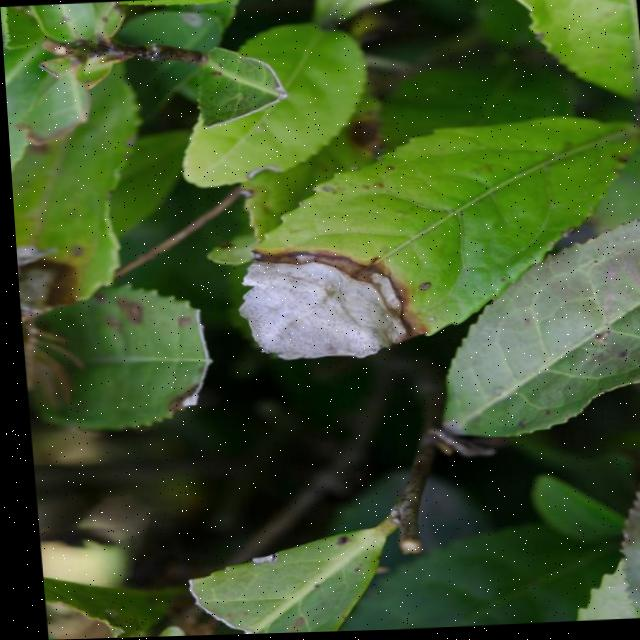Tea cloud leaf blight: (214, 241, 423, 373)
